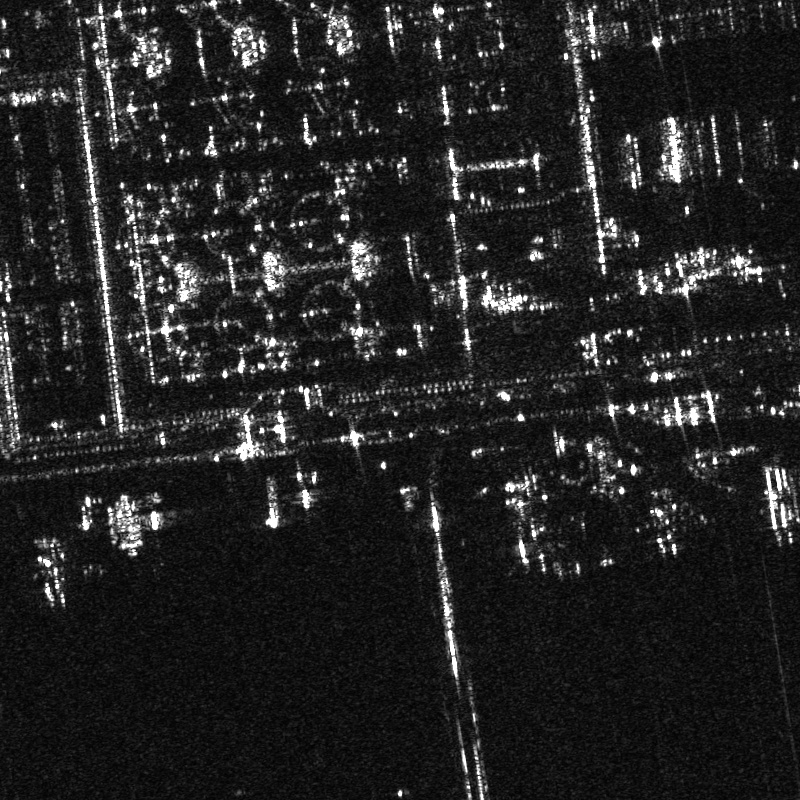Boeing787: (11, 531, 95, 609), (627, 482, 709, 561)
